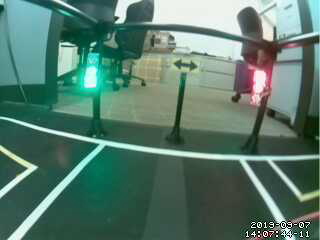Left_Right_sign: (170, 54, 201, 75)
Traffic_light_green: (82, 51, 98, 98)
Traffic_light_red: (249, 68, 269, 110)
